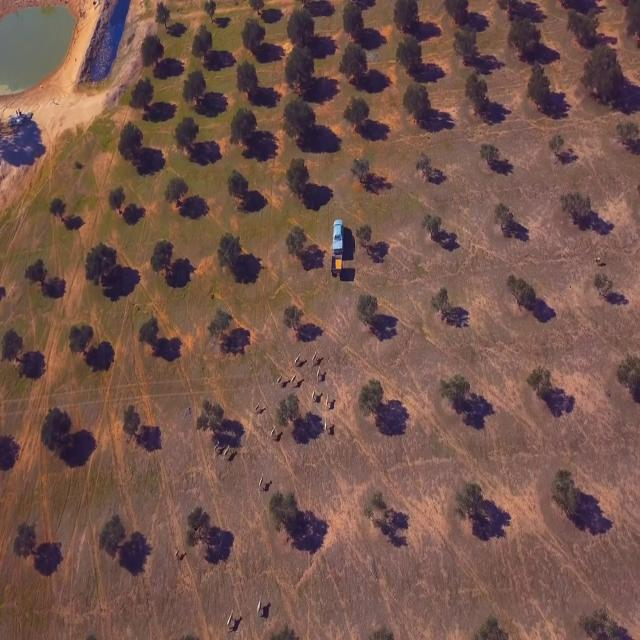trees: (580, 41, 625, 112), (38, 401, 73, 455), (84, 238, 120, 290), (280, 98, 319, 145), (96, 508, 130, 560), (562, 8, 602, 51), (338, 37, 371, 87), (180, 504, 214, 552), (216, 228, 246, 282), (437, 370, 473, 414), (271, 484, 302, 533), (548, 466, 577, 518), (556, 188, 593, 228), (282, 5, 318, 46), (284, 43, 314, 92), (65, 314, 96, 361), (508, 14, 540, 59), (192, 398, 226, 440), (402, 81, 432, 128), (505, 268, 538, 310), (229, 106, 259, 152), (490, 196, 518, 245), (448, 24, 481, 65), (390, 0, 424, 39), (522, 60, 550, 107), (463, 73, 492, 118), (12, 517, 38, 565), (24, 253, 51, 299), (526, 358, 554, 402), (148, 234, 176, 278), (116, 119, 146, 160), (172, 114, 201, 156), (234, 59, 264, 99), (363, 491, 389, 537), (0, 326, 26, 372), (342, 93, 372, 131), (161, 173, 190, 211), (360, 376, 385, 420), (205, 306, 233, 344), (620, 114, 640, 167), (454, 481, 484, 516), (286, 156, 309, 201), (136, 311, 162, 350), (338, 2, 366, 38), (140, 32, 165, 72), (397, 38, 425, 72), (227, 166, 249, 209), (181, 70, 208, 104), (356, 291, 378, 332), (275, 390, 300, 426), (240, 18, 265, 54), (282, 224, 308, 258), (132, 75, 155, 113), (189, 26, 213, 62), (431, 281, 451, 323), (350, 151, 370, 189), (476, 139, 502, 168), (420, 211, 443, 243), (122, 402, 141, 440), (591, 272, 617, 298), (547, 128, 566, 162), (110, 181, 129, 215), (46, 193, 68, 222), (284, 301, 300, 334), (414, 150, 432, 179), (354, 222, 372, 250), (200, 0, 218, 24), (155, 1, 170, 25)
